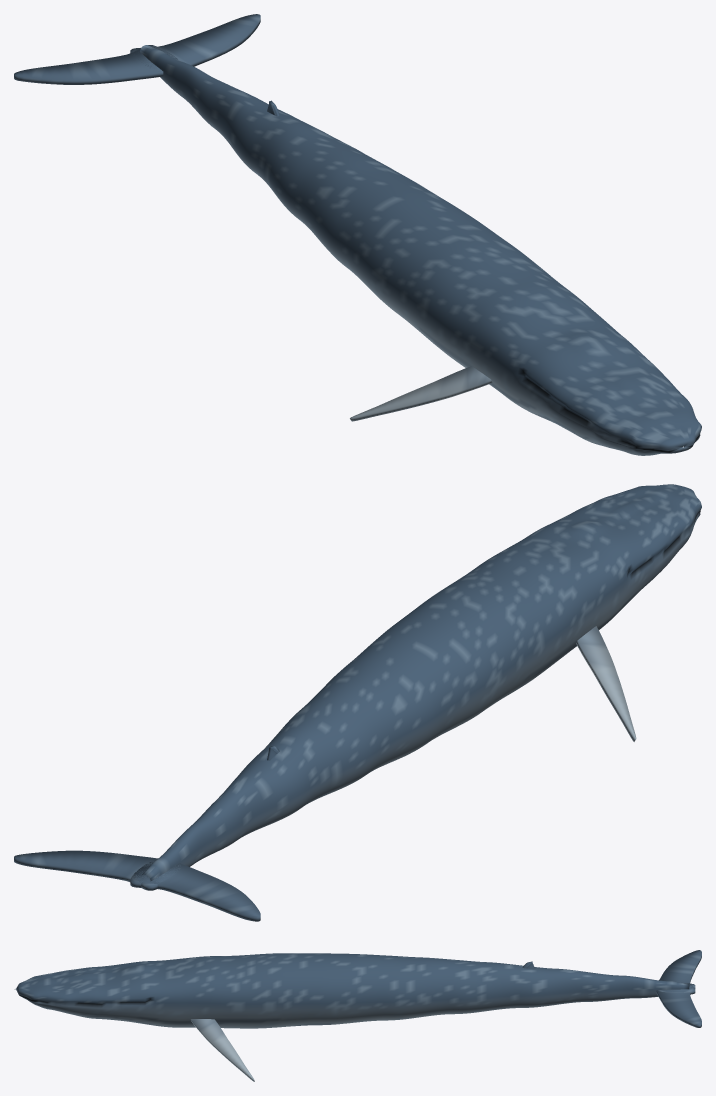
The model's file is blue.glb.
3 renders of one model, top to bottom at view 1: azimuth 30°, elevation 25°; view 2: azimuth 150°, elevation 25°; view 3: azimuth 270°, elevation 25°, orthographic. The views are drawn at different scales.
Parts seen in each view (by area): view 1: blue; view 2: blue; view 3: blue.
Part boxes in pixels (x1,y1,x2,y2): blue: [14, 14, 701, 455]; blue: [14, 484, 701, 921]; blue: [14, 950, 701, 1081].
Bounding box in the file's own units: 0.3066 × 0.1312 × 1.02.
